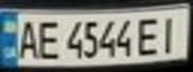4: (96, 16, 121, 58), (60, 17, 84, 60), (115, 16, 139, 57)
5: (78, 17, 100, 60)
A: (12, 17, 42, 61)
E: (33, 17, 63, 61), (136, 14, 163, 56)
I: (154, 12, 184, 54)
